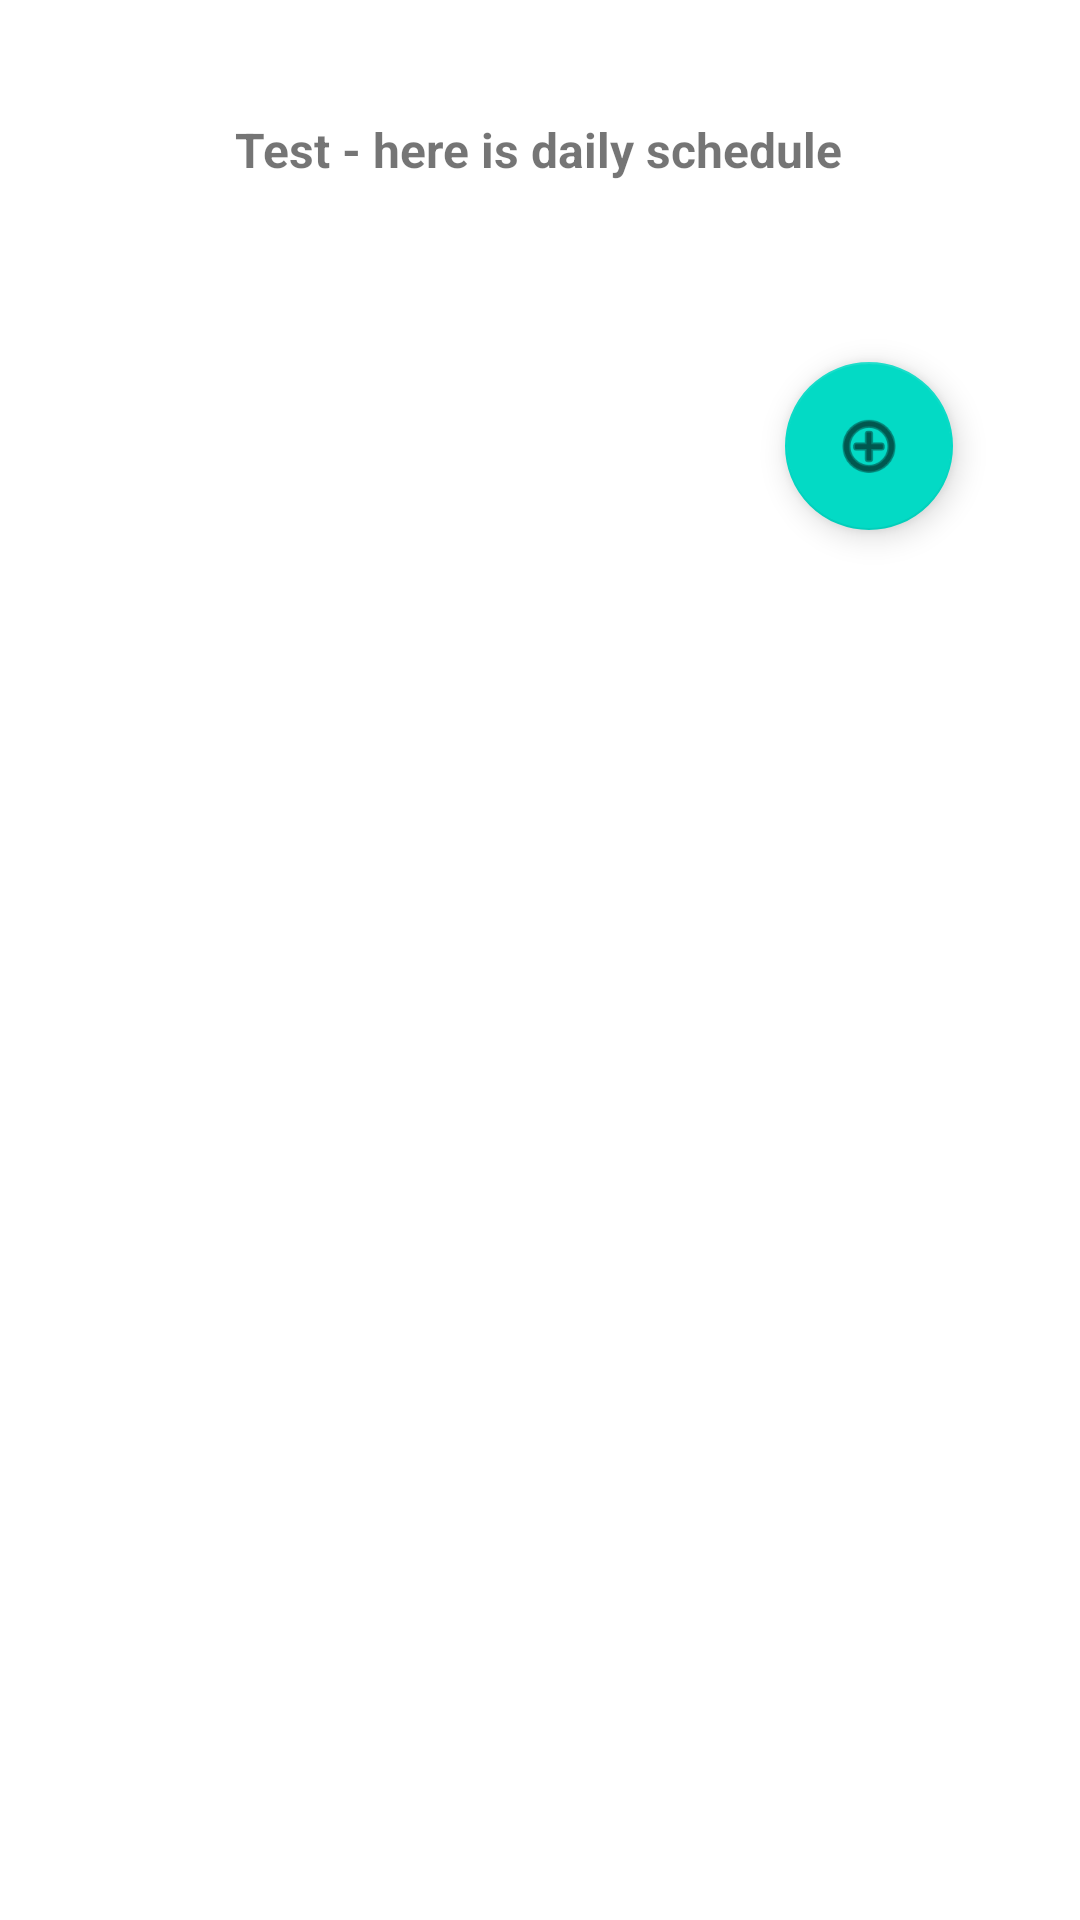

Screen size 1080px×1920px. Icon name, then its center in pixels as point (x, y):
floating action button to add a new daily schedule item: point (869, 446)
